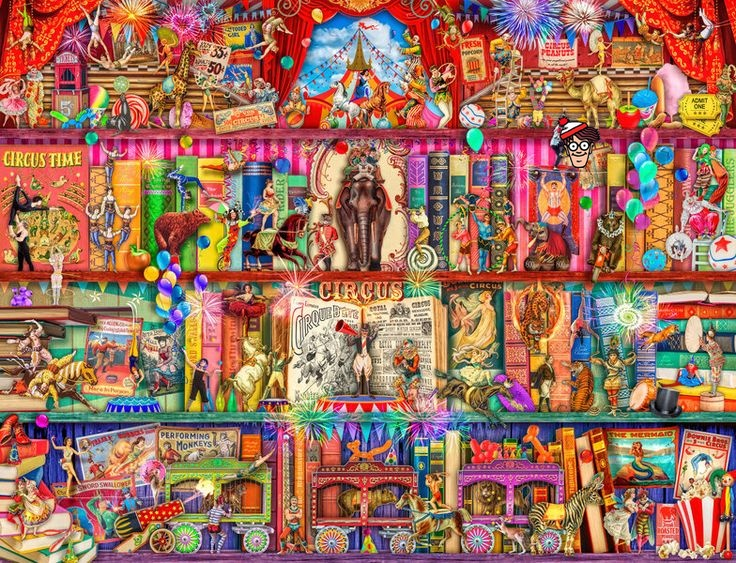waldo: (557, 115, 601, 168)
